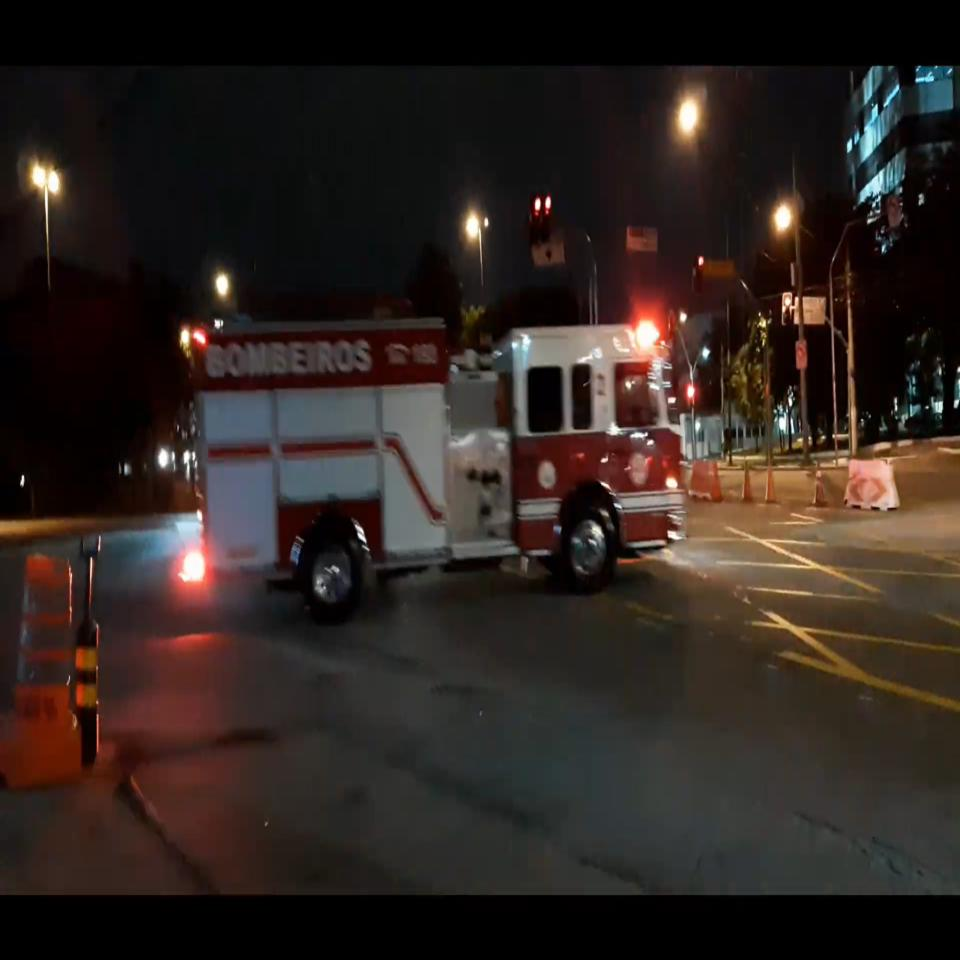viatura: (194, 316, 690, 626)
